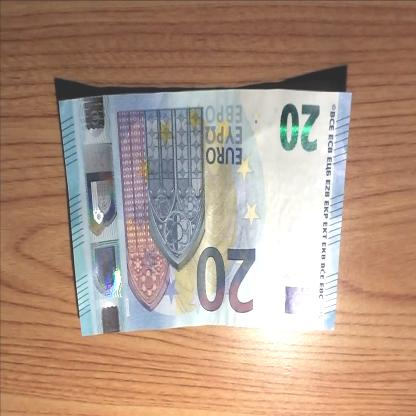euro_banknote: (60, 90, 353, 336)
